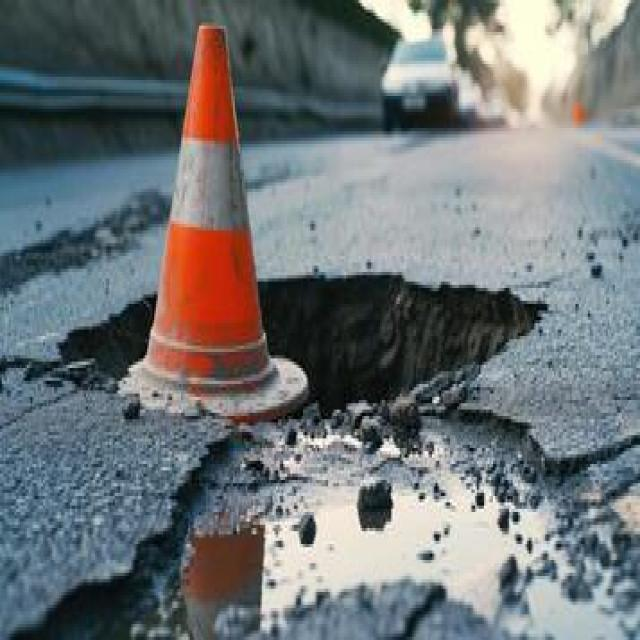road collapse: (91, 163, 631, 640)
